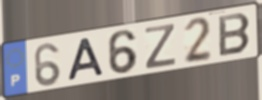2: (182, 16, 214, 67)
6: (106, 29, 140, 76), (32, 40, 63, 88)
A: (66, 35, 107, 83)
B: (217, 11, 253, 58)
Z: (144, 22, 178, 71)
